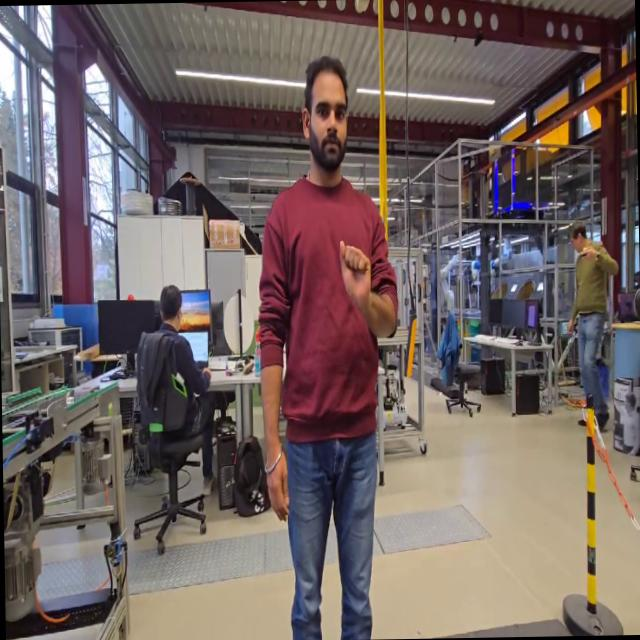closed_fist: (334, 233, 376, 318)
